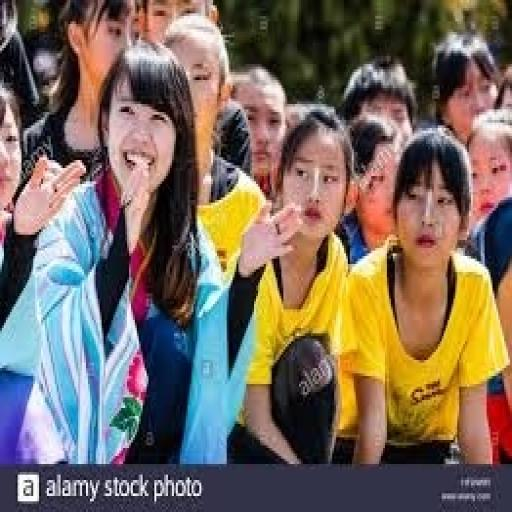clapping: (12, 37, 228, 464)
